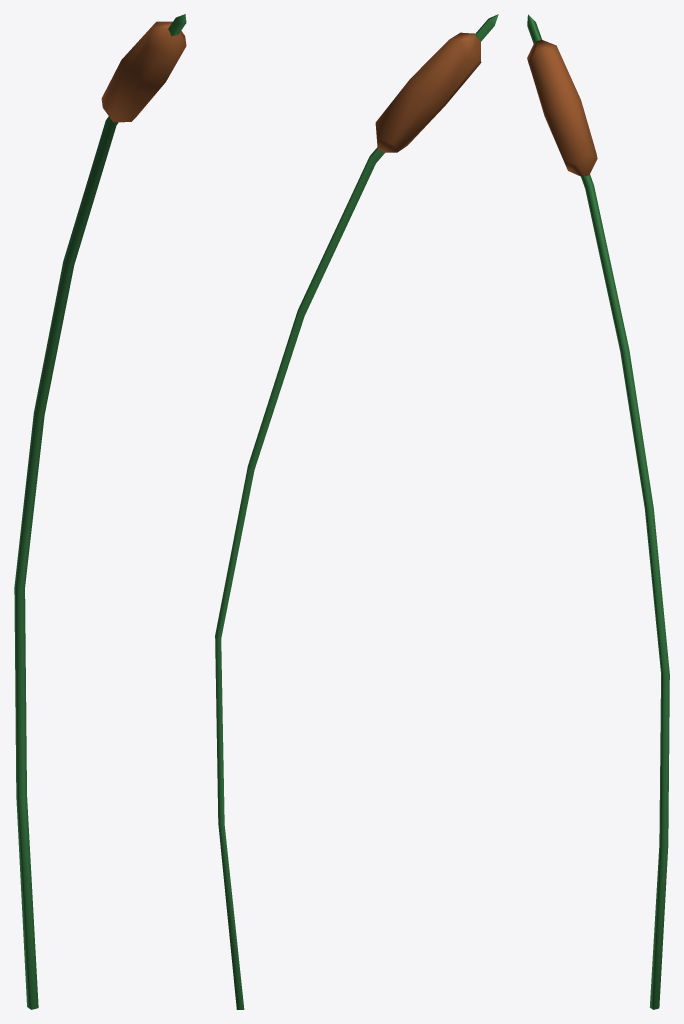
Rendered from SM_Cattail_Bent.fbx.
3 renders of one model, left to right at view 1: azimuth 90°, elevation 25°; view 2: azimuth 150°, elevation 25°; view 3: azimuth 270°, elevation 25°, orthographic. The views are drawn at different scales.
Visible parts, largest first — view 1: Cattail_Straight.001; view 2: Cattail_Straight.001; view 3: Cattail_Straight.001.
Boxes of the visible parts, <box> form: Cattail_Straight.001: <box>14,14,186,1009</box>; Cattail_Straight.001: <box>215,14,498,1009</box>; Cattail_Straight.001: <box>527,14,669,1009</box>.
Size of the model in its own units: 37.76 by 170 by 24.24.
